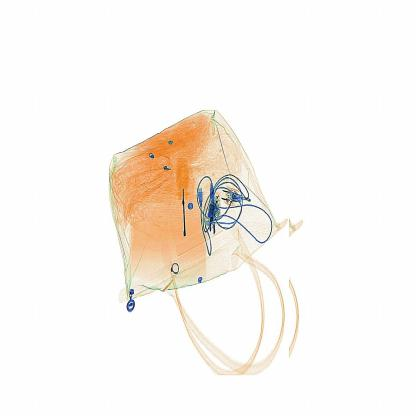wrench: (166, 154, 198, 244)
